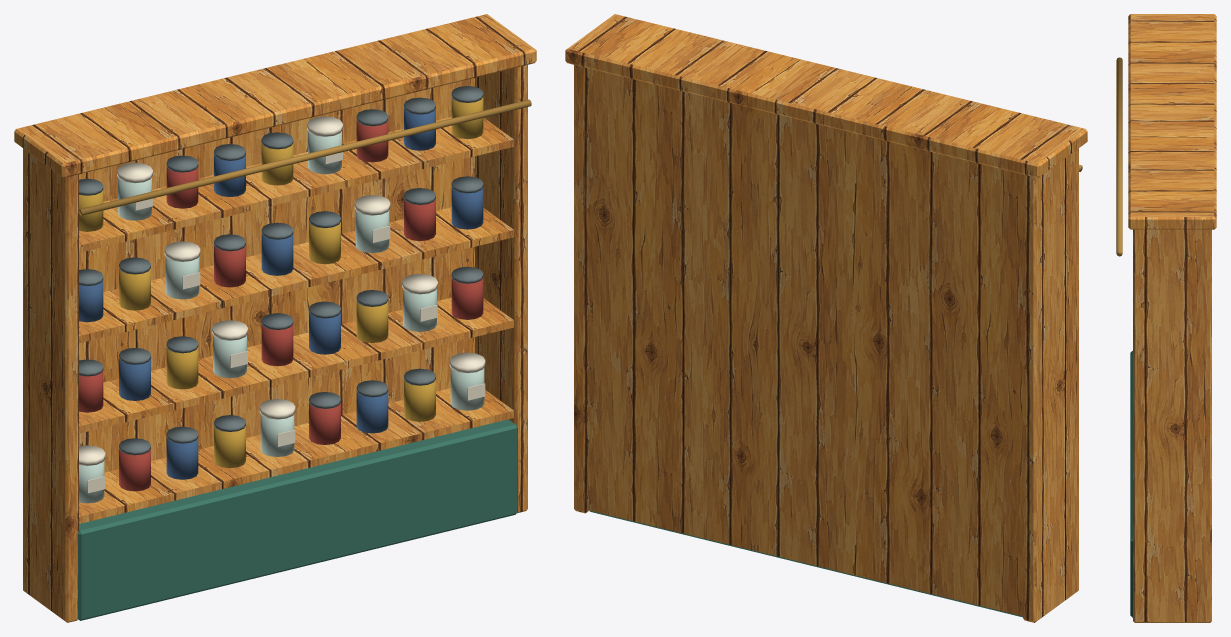
3 views of the same model, side by side, from view 1: azimuth 30°, elevation 25°; view 2: azimuth 150°, elevation 25°; view 3: azimuth 270°, elevation 25° (orthographic). The views are drawn at different scales.
Visible parts, largest first — view 1: shop_oak, shop_pantry_wainscot, shop_steel, shop_tin_blue, shop_tin_red, shop_tin_gold, shop_jar_glass, shop_paper, shop_brass; view 2: shop_oak, shop_pantry_wainscot; view 3: shop_oak, shop_brass, shop_pantry_wainscot.
Part boxes in pixels (x1,y1,x2,y2): shop_oak: (14,14,536,622); shop_pantry_wainscot: (77,419,517,620); shop_steel: (79,86,483,455); shop_tin_blue: (79,108,483,479); shop_tin_red: (79,120,483,491); shop_tin_gold: (79,97,483,468); shop_jar_glass: (79,131,484,503); shop_paper: (79,116,485,493); shop_brass: (79,99,531,215); shop_oak: (565,14,1087,622); shop_pantry_wainscot: (589,510,1022,617); shop_oak: (1128,14,1216,622); shop_brass: (1116,57,1122,256); shop_pantry_wainscot: (1130,351,1132,617).
Bounding box in the file's own units: 2.75 × 2.56 × 0.568.
Materials: 12 (1 with a texture image).
